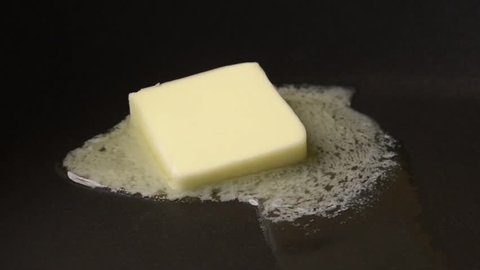Butter: (129, 63, 308, 191)
